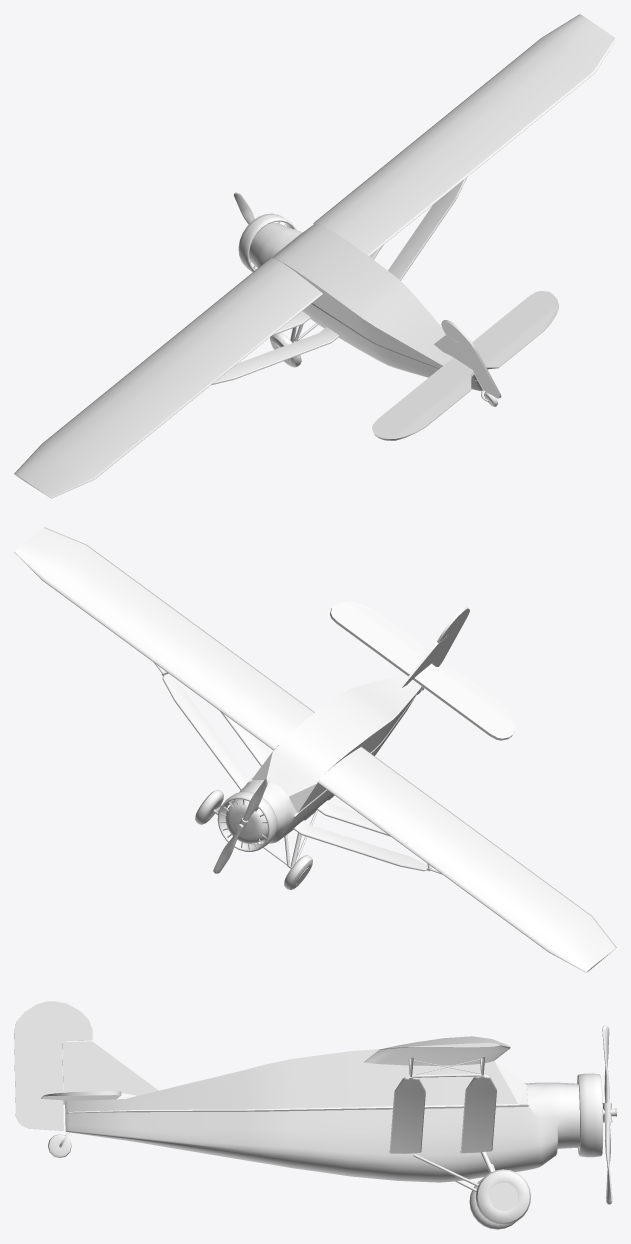
The model's file is Mundi.gltf.
3 renders of one model, top to bottom at view 1: azimuth 30°, elevation 25°; view 2: azimuth 150°, elevation 25°; view 3: azimuth 270°, elevation 25°, orthographic. The views are drawn at different scales.
Parts seen in each view (by area): view 1: Miss-Veedoh, Gouvernaille; view 2: Miss-Veedoh, Hélice, Gouvernaille; view 3: Miss-Veedoh, Gouvernaille, Hélice.
Part boxes in pixels (x1,y1,x2,y2): Miss-Veedoh: (14,14,616,498); Gouvernaille: (441,320,501,398); Miss-Veedoh: (14,527,616,972); Hélice: (213,778,268,873); Gouvernaille: (432,607,469,666); Miss-Veedoh: (41,1036,602,1229); Gouvernaille: (14,1001,92,1130); Hélice: (602,1025,616,1204).
Size of the model in its own units: 1.26 by 0.6384 by 0.8518.
1 material, 1 textured.
